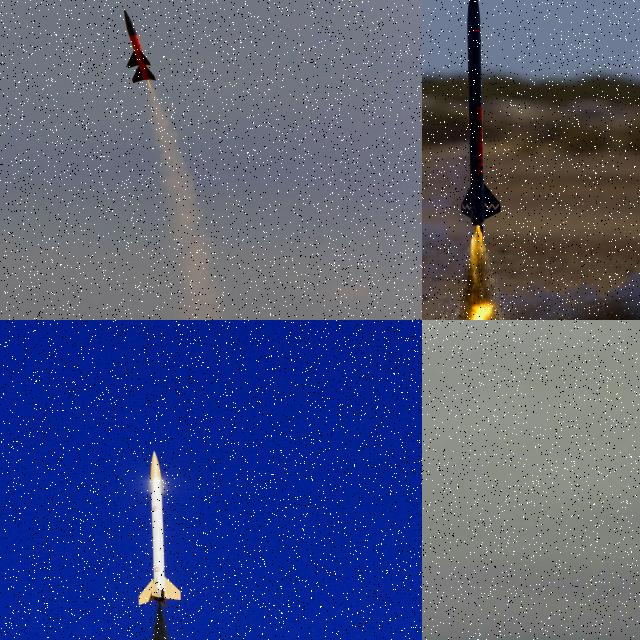Rocket: (458, 0, 502, 229), (136, 450, 183, 606), (123, 9, 156, 83)
